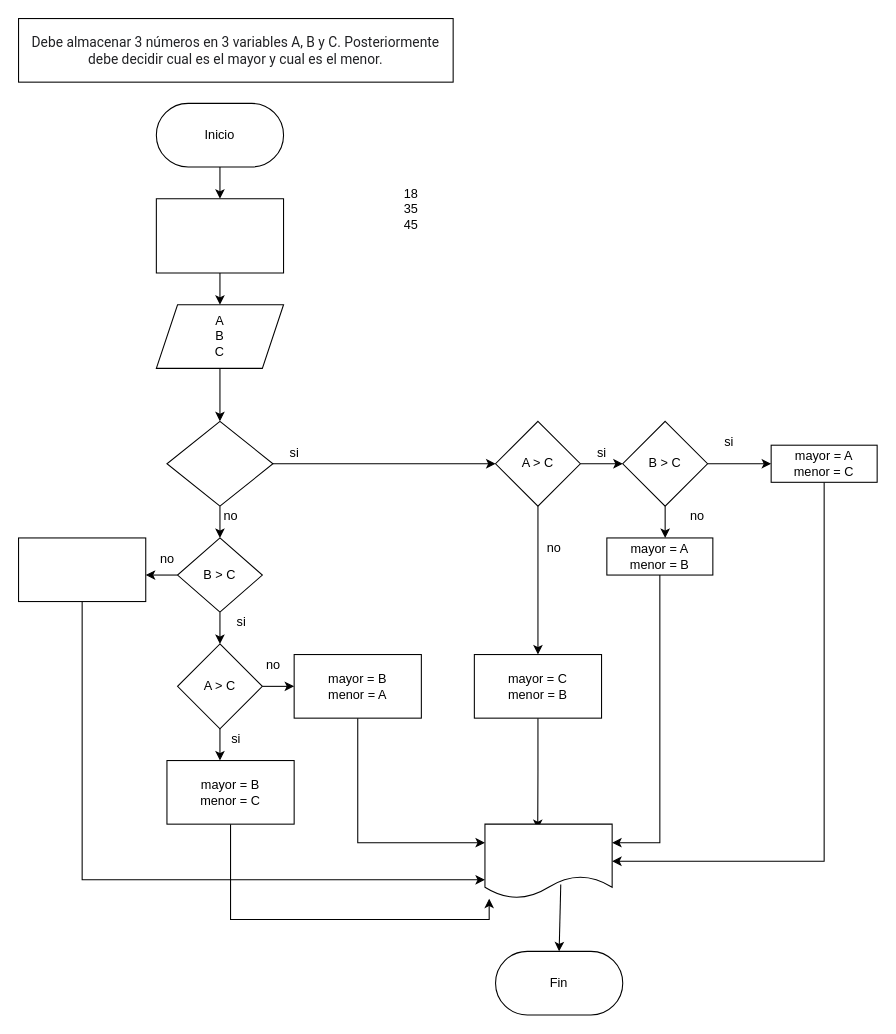
Image size: 896x1034. Some labels were removed from this diagram. Each missing label, with the centre of its shape:
A = 0 B = 0 C = 0 mayor = 0 menor = 0: point 219,235
A > B: point 219,463
mayor = C menor = A: point 81,569
mayor menor: point 548,860
